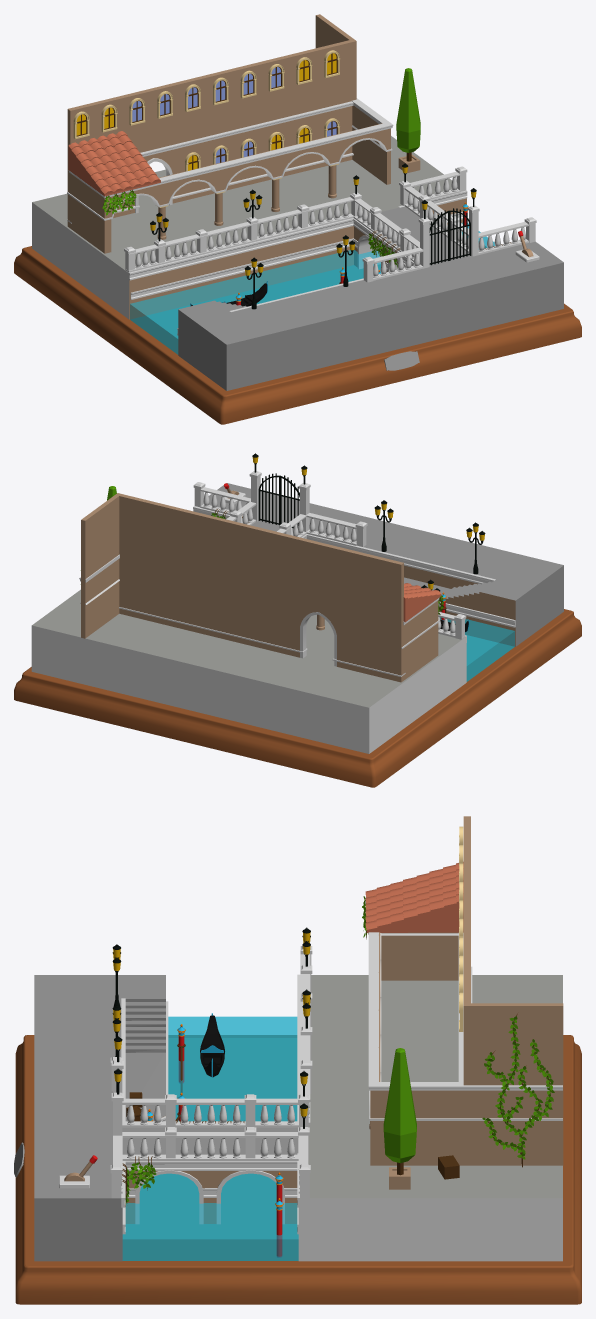
Rendered from level1_night.FBX.
3 views of the same model, one above another, from view 1: azimuth 30°, elevation 25°; view 2: azimuth 150°, elevation 25°; view 3: azimuth 270°, elevation 25° (orthographic). The views are drawn at different scales.
Parts seen in each view (by area): view 1: level_1_nacht, door right, door_left; view 2: level_1_nacht, door right, door_left; view 3: level_1_nacht.
Part boxes in pixels (left/top/right/bottom): level_1_nacht: left=14, top=14, right=581, bottom=424; door right: left=449, top=208, right=470, bottom=260; door_left: left=429, top=210, right=449, bottom=265; level_1_nacht: left=14, top=453, right=581, bottom=787; door right: left=258, top=473, right=280, bottom=525; door_left: left=280, top=475, right=299, bottom=528; level_1_nacht: left=14, top=816, right=581, bottom=1304.
Bounding box in the file's own units: 132 × 66.38 × 132.
